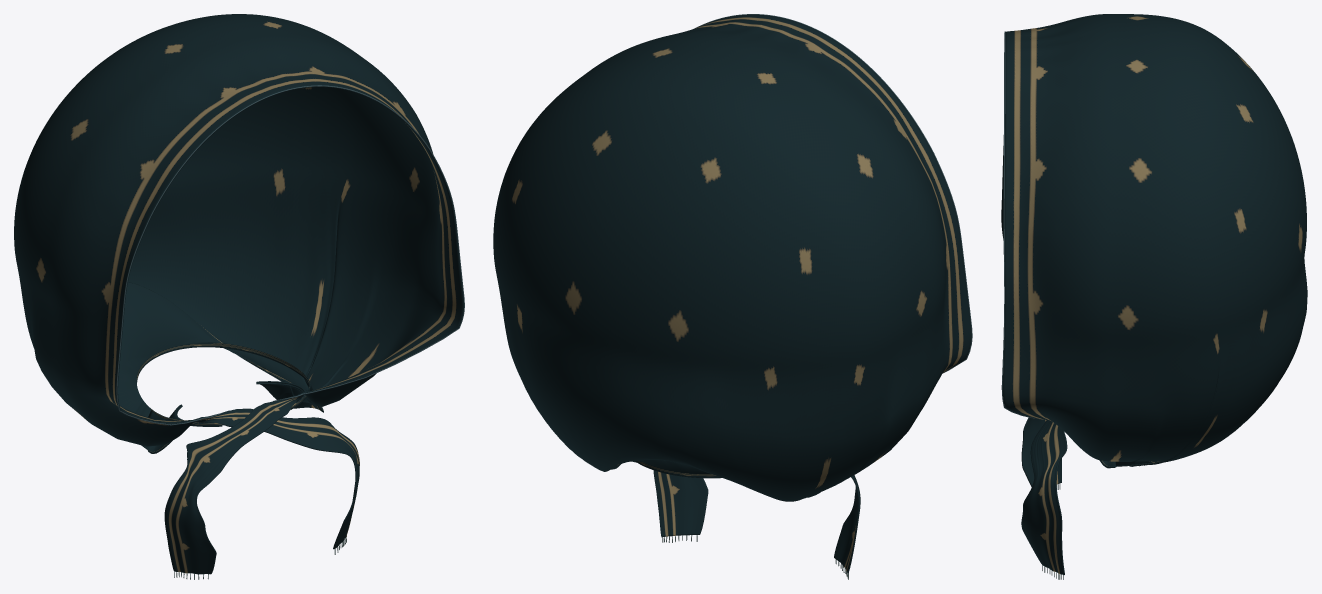
File: Feminine-ponytail-strappy-pashmina250-headgear.glb
The picture shows the model from 3 angles, left to right: view 1: azimuth 30°, elevation 25°; view 2: azimuth 150°, elevation 25°; view 3: azimuth 270°, elevation 25°; orthographic projection. The views are drawn at different scales.
Visible parts, largest first — view 1: 226 headgear / Headwear / continuous woven pashmina239, 226 headgear / Headwear / face edge239; view 2: 226 headgear / Headwear / continuous woven pashmina239, 226 headgear / Headwear / face edge239; view 3: 226 headgear / Headwear / continuous woven pashmina239, 226 headgear / Headwear / face edge239.
Boxes of the visible parts, <box> form: 226 headgear / Headwear / continuous woven pashmina239: <box>14,14,463,574</box>; 226 headgear / Headwear / face edge239: <box>116,85,464,425</box>; 226 headgear / Headwear / continuous woven pashmina239: <box>493,14,971,573</box>; 226 headgear / Headwear / face edge239: <box>694,14,972,373</box>; 226 headgear / Headwear / continuous woven pashmina239: <box>1001,14,1307,574</box>; 226 headgear / Headwear / face edge239: <box>1001,31,1042,419</box>.
Bounding box in the file's own units: 1.07 × 1.38 × 0.7569.
3 materials, 1 textured.
